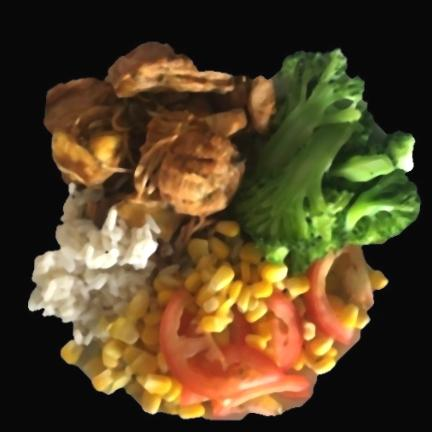broccoli: (234, 51, 419, 274)
chicken: (44, 42, 275, 239)
corn: (61, 220, 387, 419)
rice: (28, 189, 159, 345)
tomato: (160, 291, 308, 410), (304, 256, 353, 343)
